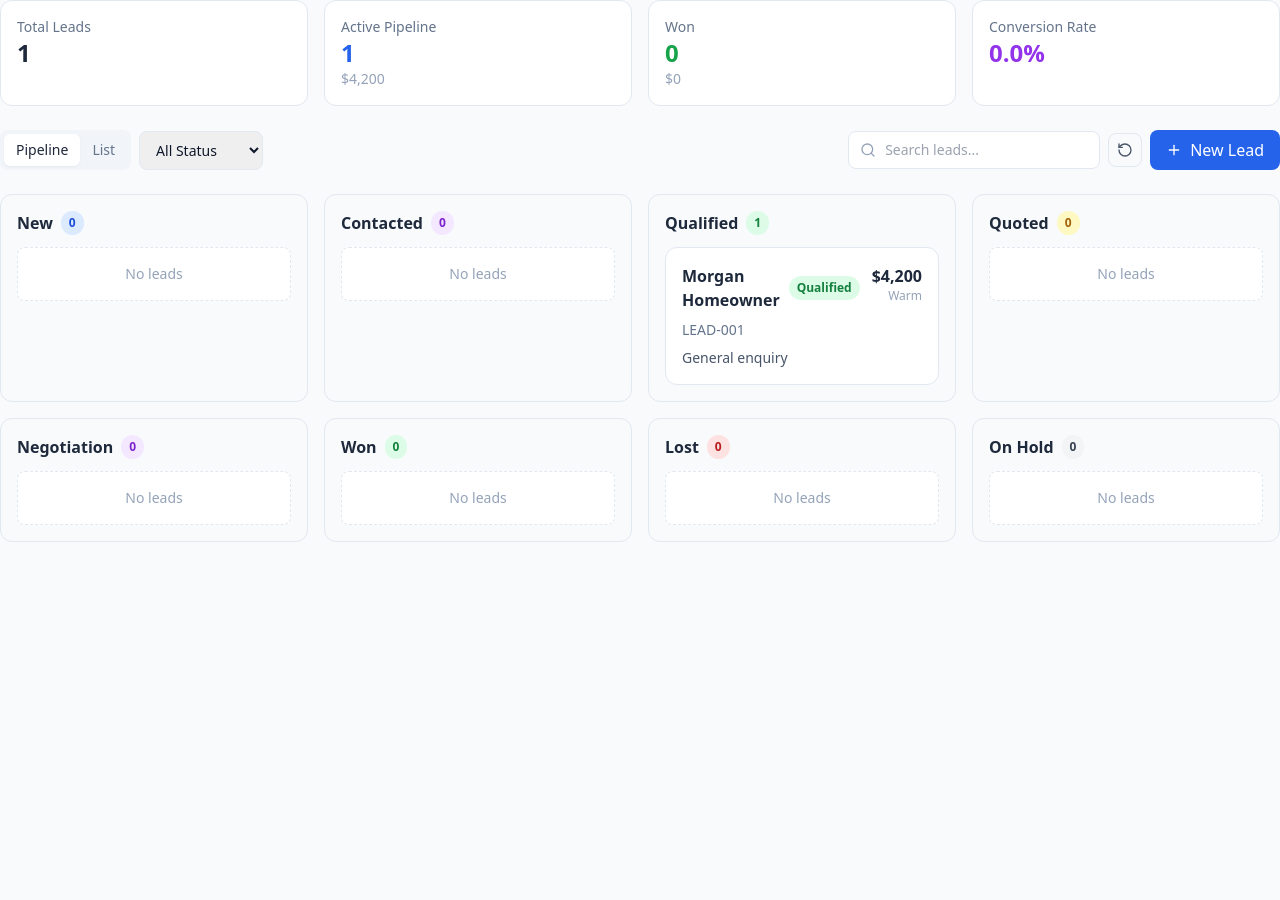
Test: LeadPipelineView › loads the live pipeline and opens a lead detail modal
Expected: the text "Morgan Homeowner" is shown, [682, 264, 781, 312]
Expected: the text "LEAD-001" is shown, [682, 320, 745, 339]
What coordinates should you click on to do the following:
click the button "Morgan Homeowner"
I would click on:
 (713, 276)
Its box is [665, 247, 939, 385].
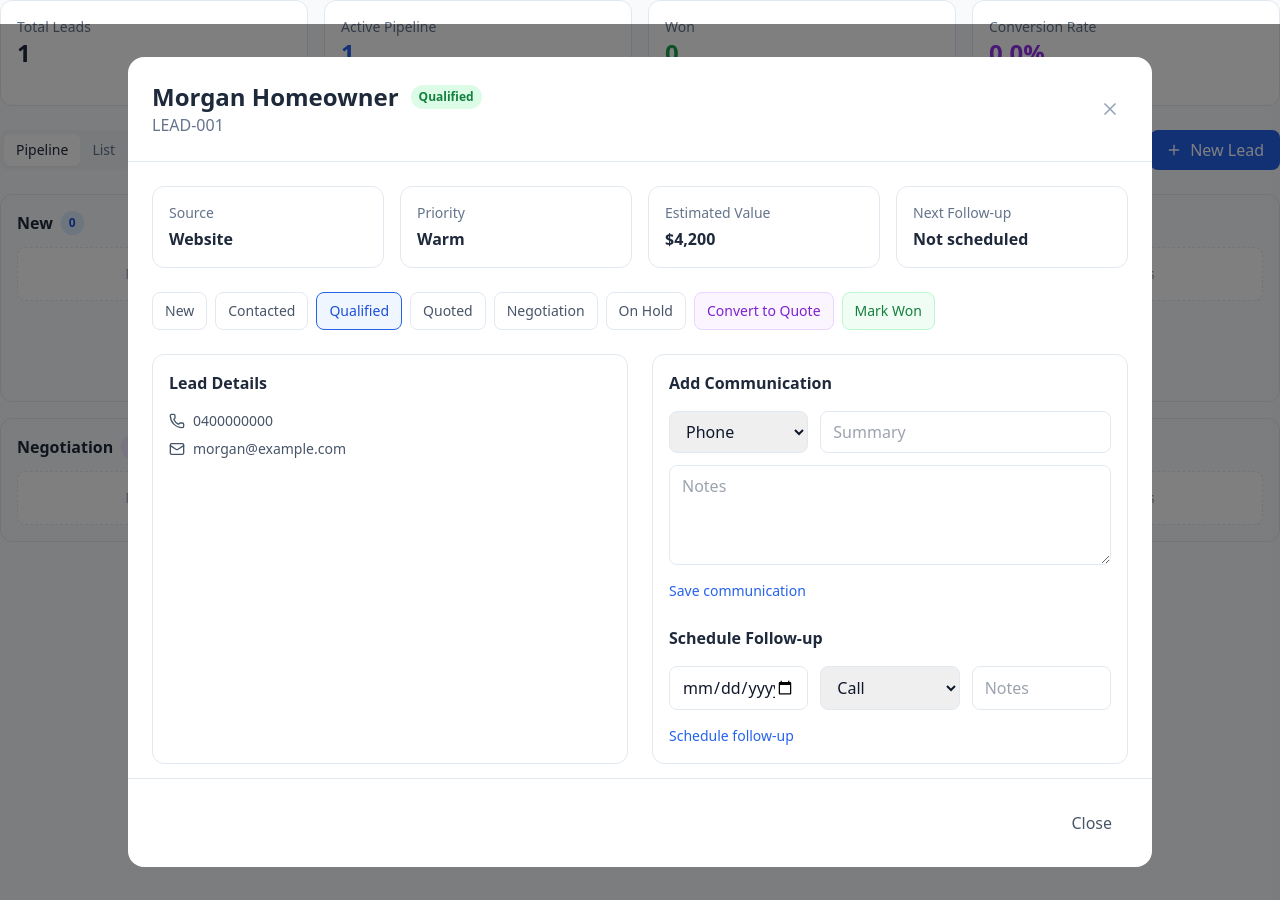
Now the button "Convert to Quote" is shown, box [694, 292, 834, 330]
Now the heading "Lead Details" is shown, box [169, 372, 267, 394]
